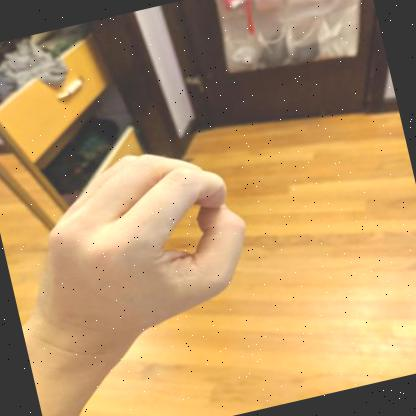O: (35, 154, 245, 363)
